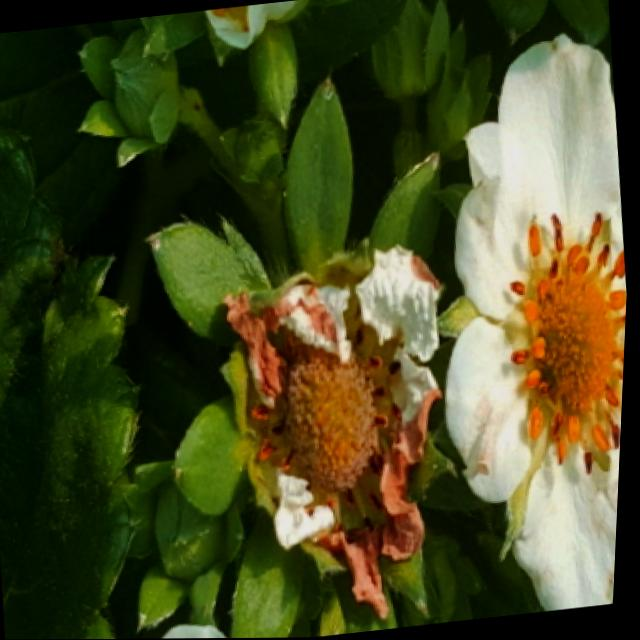Blossom Blight: (248, 305, 415, 542), (507, 204, 629, 478)
